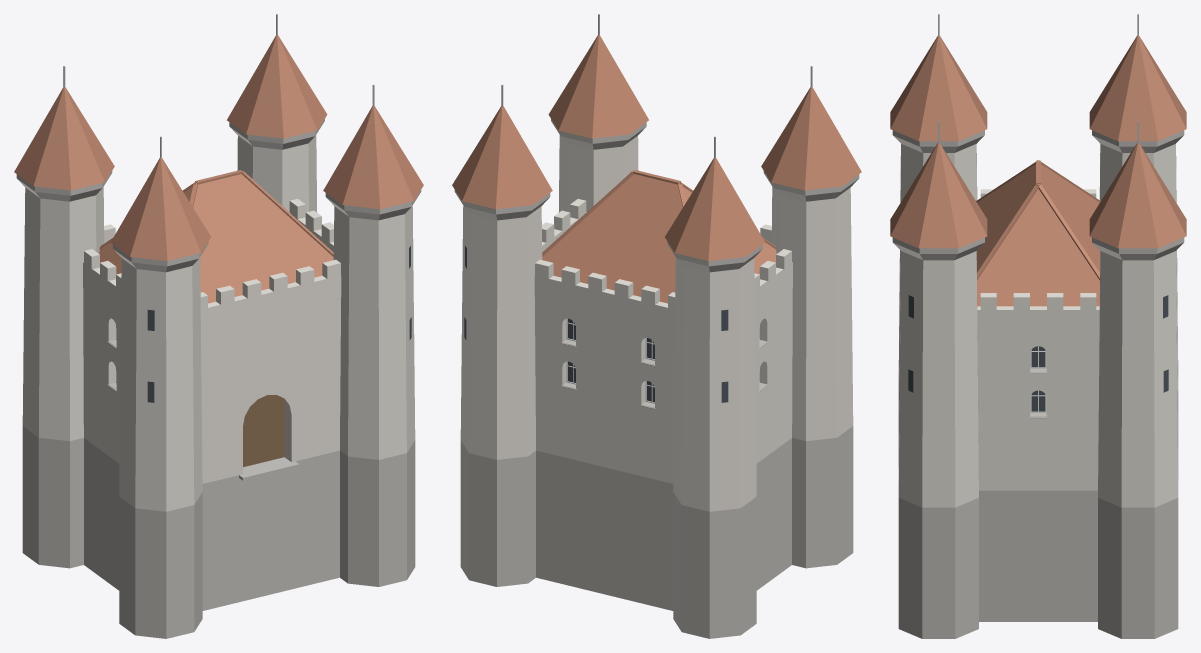
File: castle_s.glb
3 renders of one model, left to right at view 1: azimuth 30°, elevation 25°; view 2: azimuth 150°, elevation 25°; view 3: azimuth 270°, elevation 25°, orthographic. The views are drawn at different scales.
Visible parts, largest first — view 1: castle_s; view 2: castle_s; view 3: castle_s.
Boxes of the visible parts, x1,y1,x2,y2 form: castle_s: (14, 14, 423, 638); castle_s: (452, 14, 861, 638); castle_s: (890, 14, 1186, 638).
Size of the model in its own units: 19.36 by 30.48 by 16.36.
